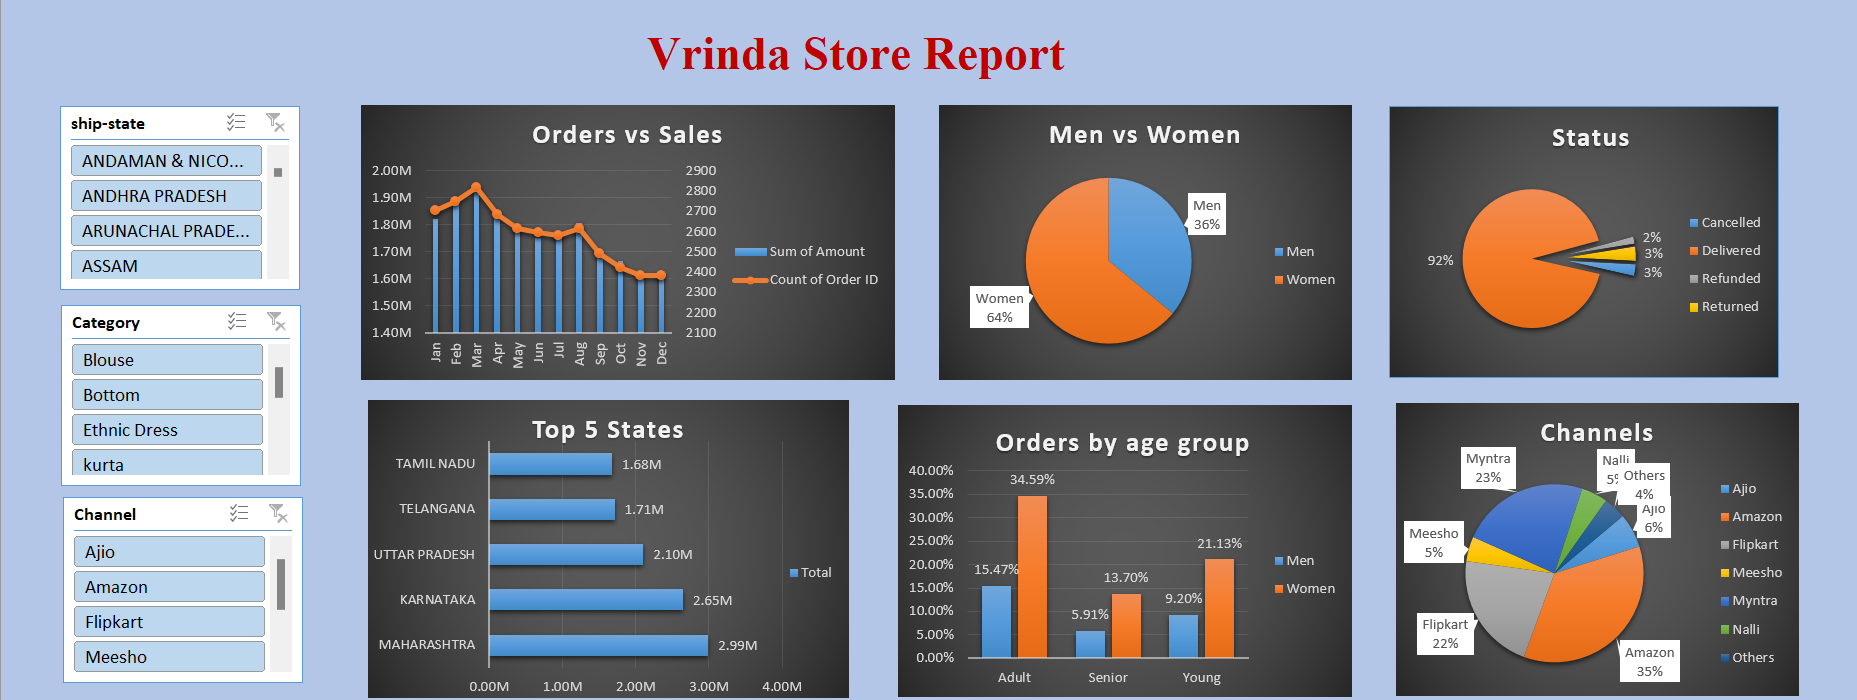

What the dashboard file says about the page in this screenshot:
{"tool":"tableau","page":{"name":"Dashboard 1","canvas":[1000,1000],"units":"permille","ordinal":0},"visuals":[{"type":"text","box":[4.8,10,893.8,77.4]},{"type":"filter","title":"Channel","param":"[federated.0mhyoqf1k8acts1dtvrkz1ix8yim].[none:Category:nk]","box":[898.6,10,96.6,76.2]},{"type":"worksheet","title":"Man vs Women","mark":"Pie","box":[4.8,87.4,259.5,474.9]},{"type":"worksheet","title":"Sales vs Order","mark":"Automatic","rows":["Amount"],"cols":["Month"],"box":[264.3,87.4,326.5,474.9]},{"type":"worksheet","title":"Order by age group","mark":"Automatic","rows":["Order ID"],"cols":["Age Category","Gender"],"box":[590.8,87.4,307.8,474.9]},{"type":"worksheet","title":"Status","mark":"Pie","box":[4.8,562.2,234.8,427.8]},{"type":"worksheet","title":"Top 5 States","mark":"Automatic","rows":["ship-state"],"cols":["Amount"],"box":[239.6,562.2,396.5,427.8]},{"type":"worksheet","title":"Channel","mark":"Pie","box":[636.1,562.2,262.5,427.8]}]}

Visuals, with their boxes on the dashboard's canvas, which has no fixed pixel size, in thousandths of its width and height (x1, y1, x2, y2). These are canvas units, not pixel positions in the 1857x700 screenshot, which may show the page scaled, cropped or inside an application window:
text: select_region(5, 10, 899, 87)
"Channel" filter: select_region(899, 10, 995, 86)
"Man vs Women" worksheet (Pie marks): select_region(5, 87, 264, 562)
"Sales vs Order" worksheet: select_region(264, 87, 591, 562)
"Order by age group" worksheet: select_region(591, 87, 899, 562)
"Status" worksheet (Pie marks): select_region(5, 562, 240, 990)
"Top 5 States" worksheet: select_region(240, 562, 636, 990)
"Channel" worksheet (Pie marks): select_region(636, 562, 899, 990)
